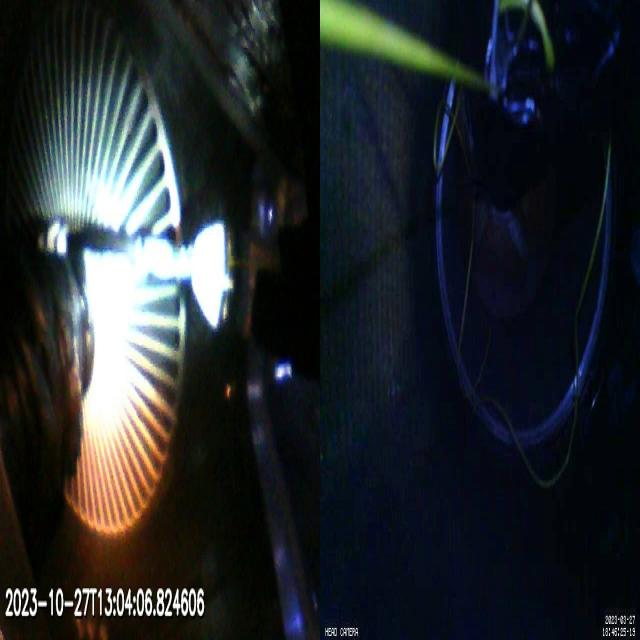head: (192, 223, 285, 329)
white-dots: (31, 215, 69, 257)
